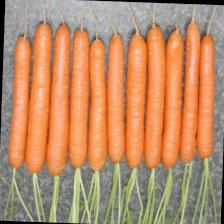carrot: (23, 21, 52, 173), (44, 22, 72, 176), (140, 23, 165, 168), (5, 34, 32, 168), (66, 27, 91, 168), (158, 28, 183, 168), (84, 37, 110, 170), (122, 30, 147, 168), (102, 32, 128, 163), (178, 19, 199, 162), (194, 32, 216, 158)
